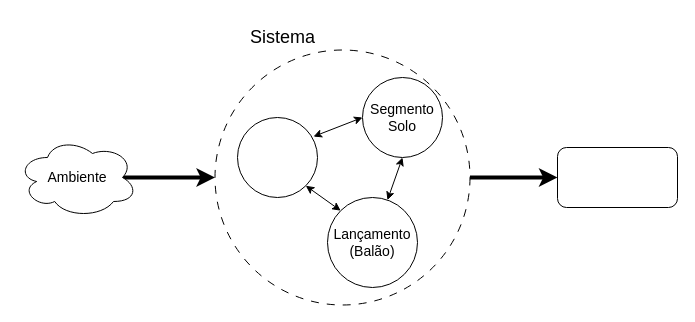
The diagram is 695 pixels wide and 322 high, and some of its shapes have lost their labels. Each missing label, with the box of its shape:
Equipe de recuperação: (556, 146, 678, 208)
Satélite: (236, 116, 318, 198)
